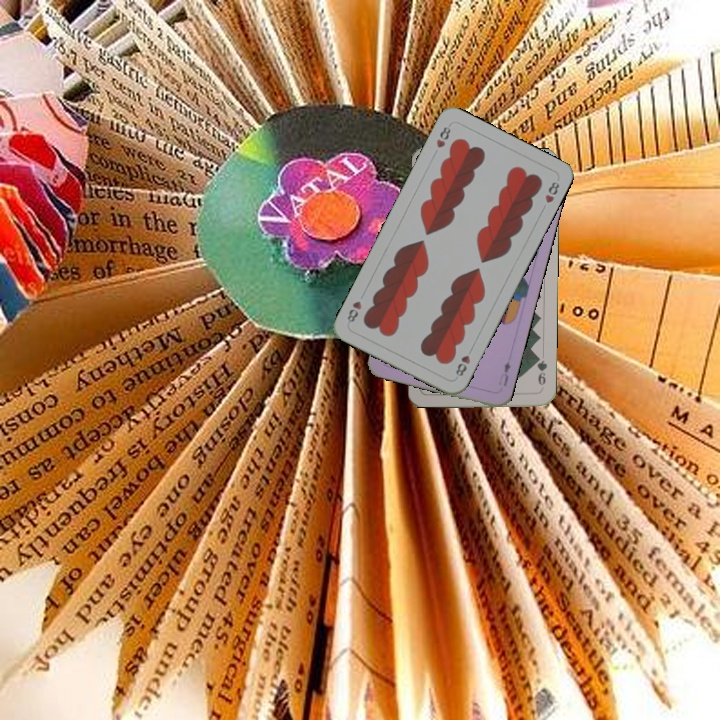EU: (494, 357, 513, 389)
G9: (532, 352, 549, 392)
H8: (451, 343, 476, 379), (432, 120, 453, 151)
